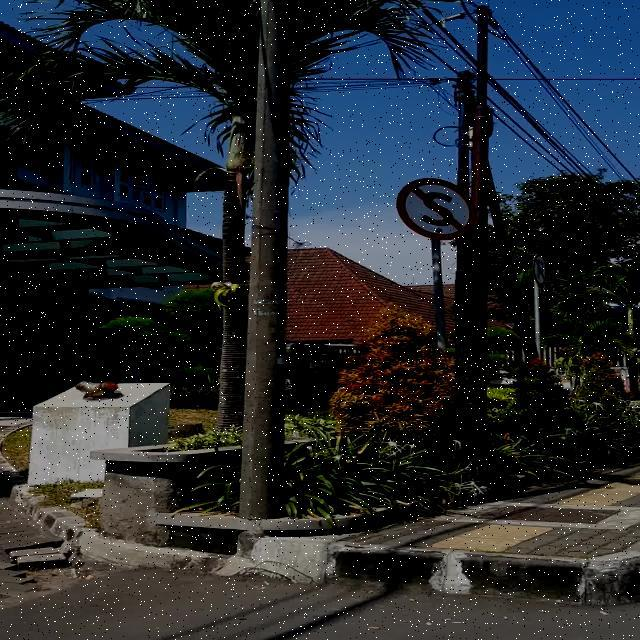Dilarang Berhenti: (396, 178, 477, 239)
